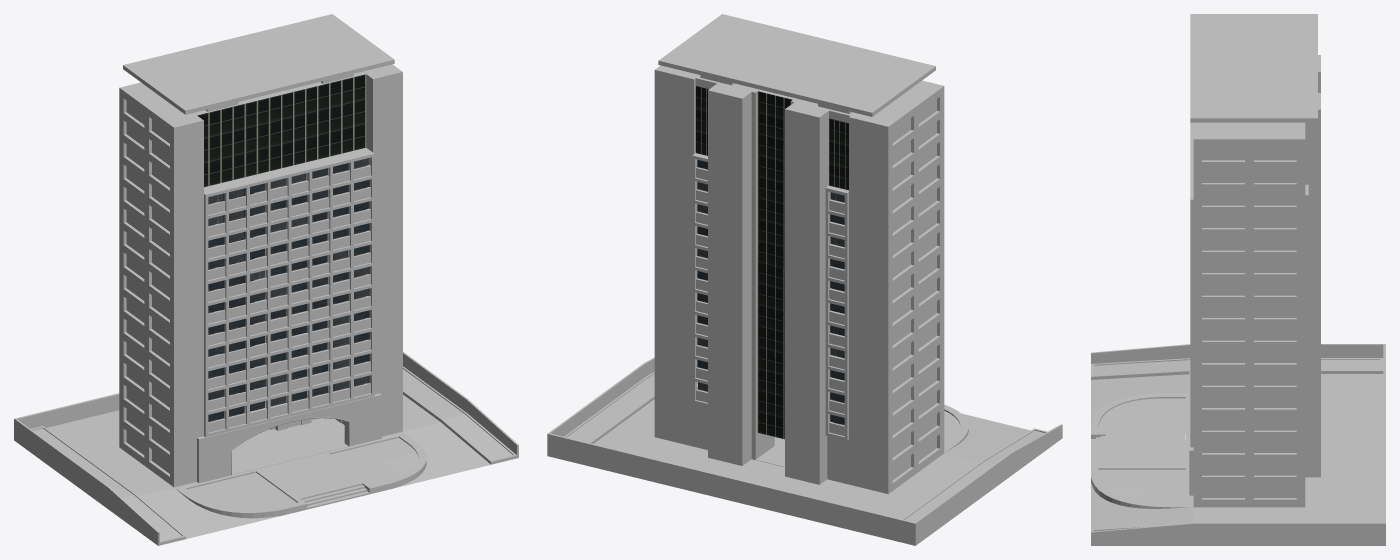
3 renders of one model, left to right at view 1: azimuth 30°, elevation 25°; view 2: azimuth 150°, elevation 25°; view 3: azimuth 270°, elevation 25°, orthographic. The views are drawn at different scales.
Parts seen in each view (by area): view 1: BC004, BC-004; view 2: BC004, BC-004; view 3: BC004, BC-004.
Boxes of the visible parts, x1=… form: BC004: x1=119, y1=14, x2=402, y2=487; BC-004: x1=14, y1=351, x2=518, y2=545; BC004: x1=654, y1=14, x2=944, y2=494; BC-004: x1=547, y1=357, x2=1062, y2=545; BC004: x1=1189, y1=14, x2=1320, y2=507; BC-004: x1=1091, y1=344, x2=1385, y2=545.
Size of what is drawn, in the model's own units: 52 by 52.54 by 36.
